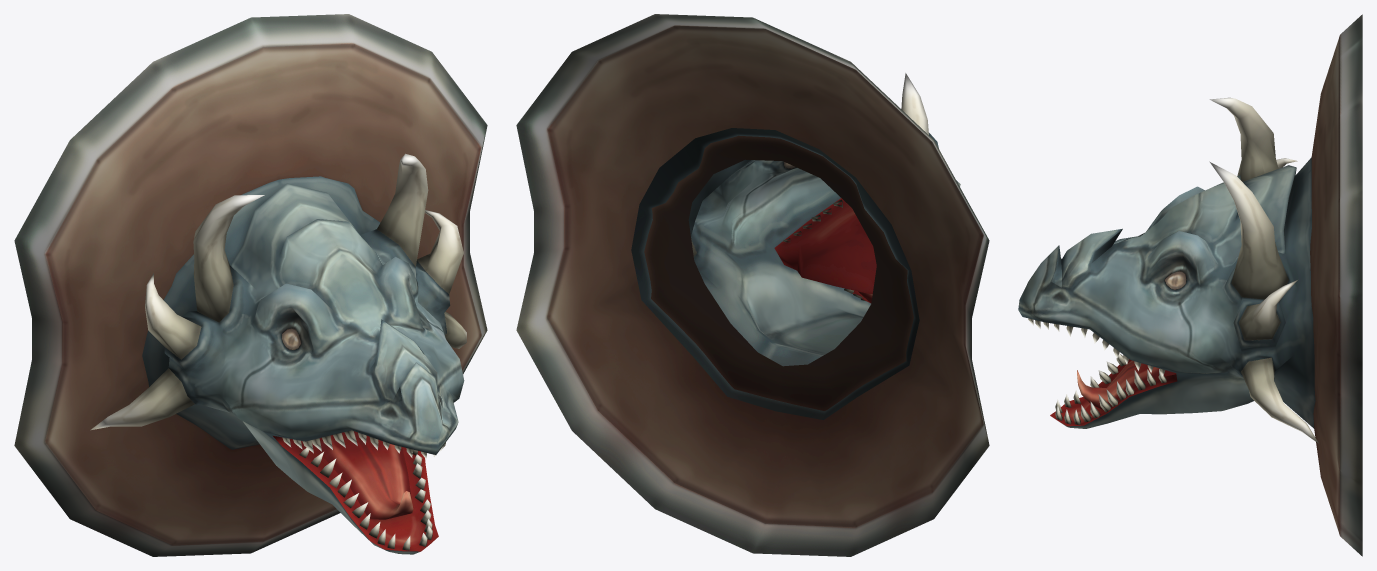
The model's file is Trophy_dragon.fbx.
The picture shows the model from 3 angles, left to right: view 1: azimuth 30°, elevation 25°; view 2: azimuth 150°, elevation 25°; view 3: azimuth 270°, elevation 25°; orthographic projection. The views are drawn at different scales.
Visible parts, largest first — view 1: Trophy_dragon; view 2: Trophy_dragon; view 3: Trophy_dragon.
Boxes of the visible parts, x1,y1,x2,y2 form: Trophy_dragon: (14,14,487,556); Trophy_dragon: (516,14,989,556); Trophy_dragon: (1018,14,1362,556).
Bounding box in the file's own units: 1.85 × 2 × 1.27.
